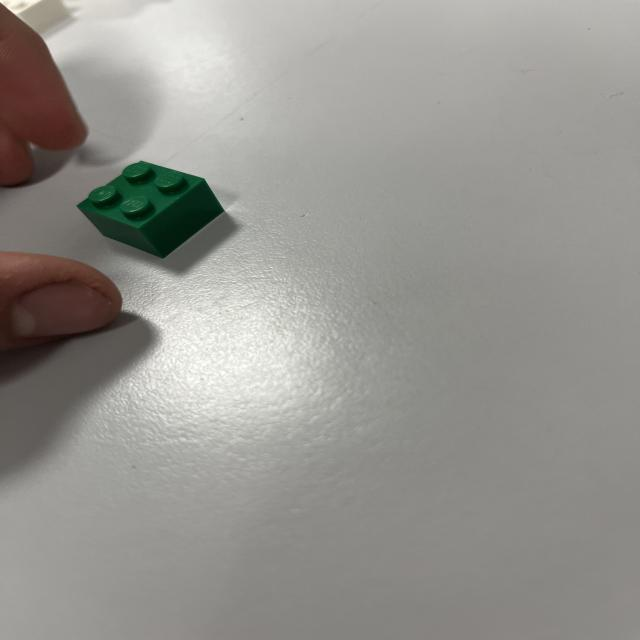C2x2x1: (78, 160, 224, 258)
